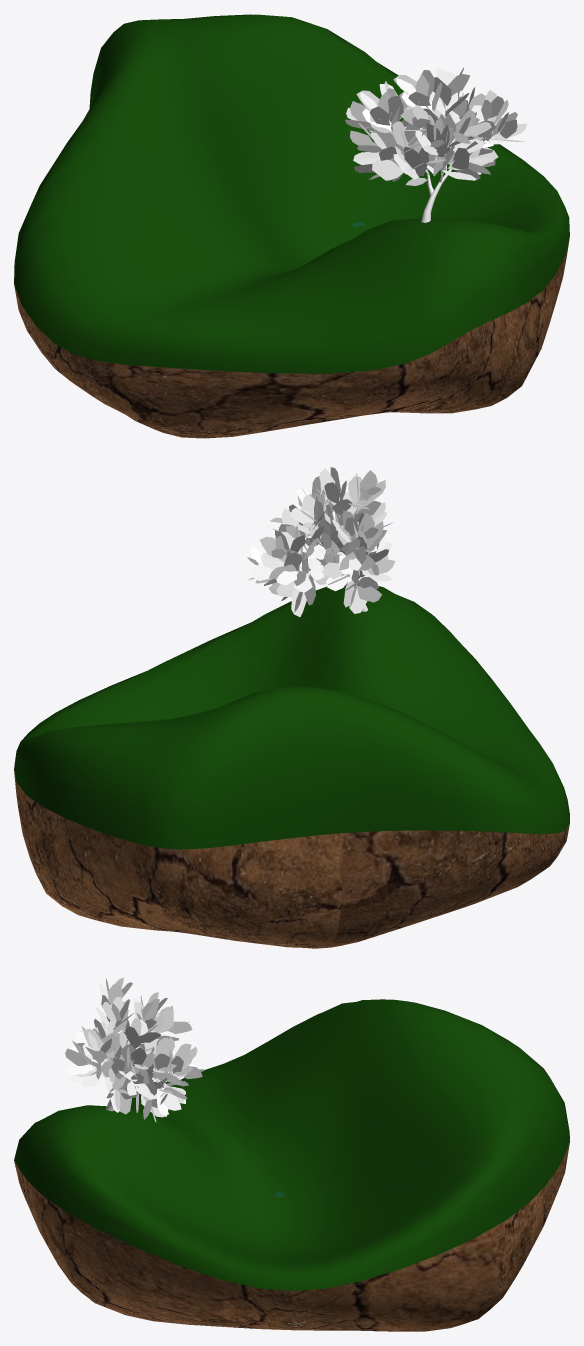
Rendered from island.glb.
3 views of the same model, one above another, from view 1: azimuth 30°, elevation 25°; view 2: azimuth 150°, elevation 25°; view 3: azimuth 270°, elevation 25° (orthographic). The views are drawn at different scales.
Parts seen in each view (by area): view 1: pCube2.001, pCube2, Canopy 1; view 2: pCube2.001, pCube2, Canopy 1; view 3: pCube2.001, pCube2, Canopy 1.
Boxes of the visible parts, x1,y1,x2,y2 form: pCube2.001: (14,14,569,373); pCube2: (14,238,569,438); Canopy 1: (345,67,527,185); pCube2.001: (14,584,569,849); pCube2: (14,770,569,948); Canopy 1: (247,467,395,616); pCube2.001: (14,999,569,1290); pCube2: (14,1142,569,1331); Canopy 1: (65,977,204,1122).
Size of the model in its own units: 3.12 by 2.09 by 3.3.
5 materials, 1 textured.
